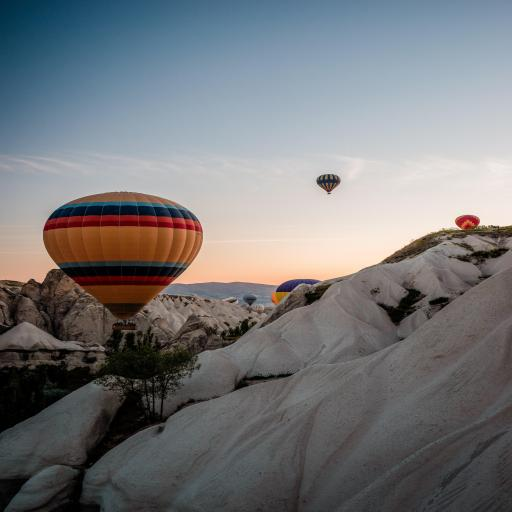hot air ballon: (42, 192, 204, 330), (316, 174, 341, 194), (455, 215, 480, 230), (243, 294, 258, 306), (222, 297, 239, 305), (252, 304, 264, 313)
